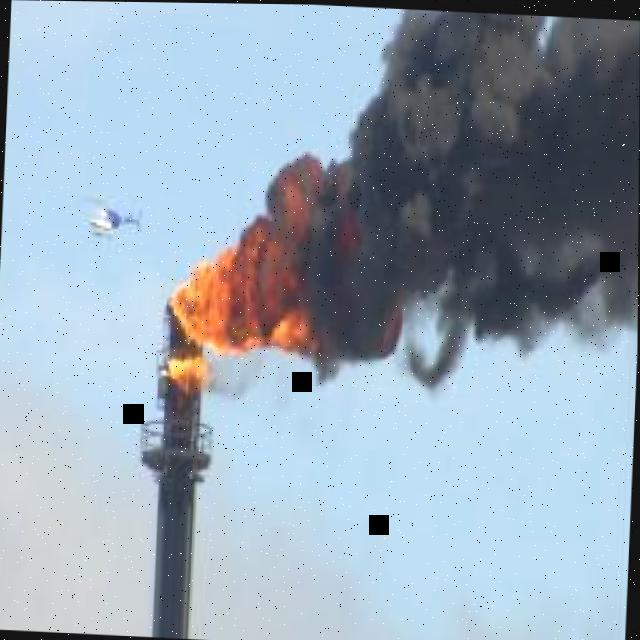fire: (169, 214, 309, 351)
smoke: (264, 7, 640, 385)
